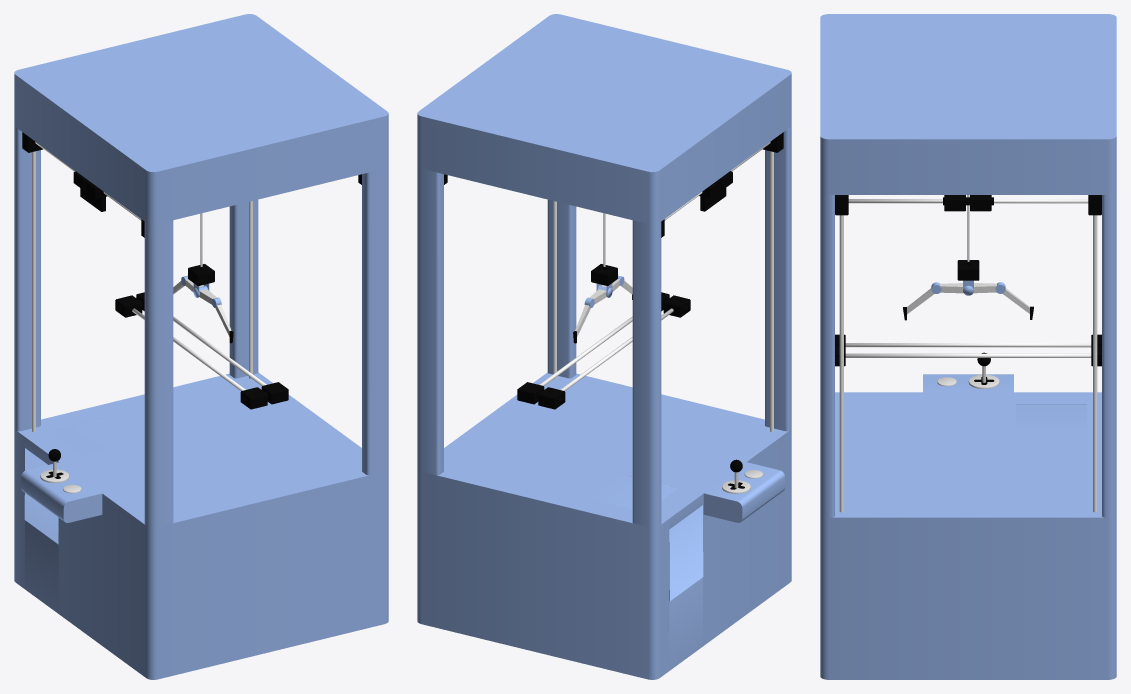
File: stage5_claw_machine_blue3.fbx
3 views of the same model, side by side, from view 1: azimuth 30°, elevation 25°; view 2: azimuth 150°, elevation 25°; view 3: azimuth 270°, elevation 25° (orthographic). The views are drawn at different scales.
Visible parts, largest first — view 1: pasted__pasted__pasted__pasted__pasted__SM_Body, pasted__pasted__pasted__pasted__pasted__SM_Body_Top, pasted__pasted__pasted__pasted__pasted__SM_ControllerBase, pasted__pasted__pasted__pasted__pasted__pasted__SM_Horizonta, pasted__pasted__pasted__pasted__pasted__SM_VerticalBar, pasted__pasted__pasted__pasted__pasted__SM_Hand_Holder; view 2: pasted__pasted__pasted__pasted__pasted__SM_Body, pasted__pasted__pasted__pasted__pasted__SM_Body_Top, pasted__pasted__pasted__pasted__pasted__SM_ControllerBase, pasted__pasted__pasted__pasted__pasted__pasted__SM_Horizonta, pasted__pasted__pasted__pasted__pasted__SM_VerticalBar, pasted__pasted__pasted__pasted__pasted__SM_Hand_Holder; view 3: pasted__pasted__pasted__pasted__pasted__SM_Body, pasted__pasted__pasted__pasted__pasted__SM_Body_Top, pasted__pasted__pasted__pasted__pasted__SM_VerticalBar, pasted__pasted__pasted__pasted__pasted__pasted__SM_Horizonta, pasted__pasted__pasted__pasted__pasted__SM_ControllerBase, pasted__pasted__pasted__pasted__pasted__SM_HorizontalBar_For, pasted__pasted__pasted__pasted__pasted__SM_HorizontalBar_Sid, pasted__pasted__pasted__pasted__pasted__SM_Hand_Holder, pasted__pasted__pasted__pasted__pasted__SM_Hand_1, pasted__pasted__pasted__pasted__pasted__SM_Hand_2.
Part boxes in pixels (box(x1,y1,x2,y2)): pasted__pasted__pasted__pasted__pasted__SM_Body: box(14, 372, 388, 679); pasted__pasted__pasted__pasted__pasted__SM_Body_Top: box(14, 14, 388, 527); pasted__pasted__pasted__pasted__pasted__SM_ControllerBase: box(21, 462, 102, 522); pasted__pasted__pasted__pasted__pasted__pasted__SM_Horizonta: box(115, 292, 288, 409); pasted__pasted__pasted__pasted__pasted__SM_VerticalBar: box(32, 151, 252, 431); pasted__pasted__pasted__pasted__pasted__SM_Hand_Holder: box(188, 264, 214, 297); pasted__pasted__pasted__pasted__pasted__SM_Body: box(417, 372, 791, 679); pasted__pasted__pasted__pasted__pasted__SM_Body_Top: box(417, 14, 791, 527); pasted__pasted__pasted__pasted__pasted__SM_ControllerBase: box(703, 462, 784, 522); pasted__pasted__pasted__pasted__pasted__pasted__SM_Horizonta: box(517, 292, 690, 409); pasted__pasted__pasted__pasted__pasted__SM_VerticalBar: box(553, 151, 773, 431); pasted__pasted__pasted__pasted__pasted__SM_Hand_Holder: box(591, 264, 617, 297); pasted__pasted__pasted__pasted__pasted__SM_Body: box(820, 392, 1116, 679); pasted__pasted__pasted__pasted__pasted__SM_Body_Top: box(820, 14, 1116, 517); pasted__pasted__pasted__pasted__pasted__SM_VerticalBar: box(839, 215, 1097, 512); pasted__pasted__pasted__pasted__pasted__pasted__SM_Horizonta: box(835, 334, 1101, 366); pasted__pasted__pasted__pasted__pasted__SM_ControllerBase: box(923, 374, 1013, 392); pasted__pasted__pasted__pasted__pasted__SM_HorizontalBar_For: box(835, 195, 1101, 215); pasted__pasted__pasted__pasted__pasted__SM_HorizontalBar_Sid: box(943, 195, 993, 211); pasted__pasted__pasted__pasted__pasted__SM_Hand_Holder: box(957, 260, 979, 295); pasted__pasted__pasted__pasted__pasted__SM_Hand_1: box(903, 282, 963, 320); pasted__pasted__pasted__pasted__pasted__SM_Hand_2: box(973, 282, 1033, 319).
Size of the model in its own units: 4.78 by 8.29 by 4.12.
